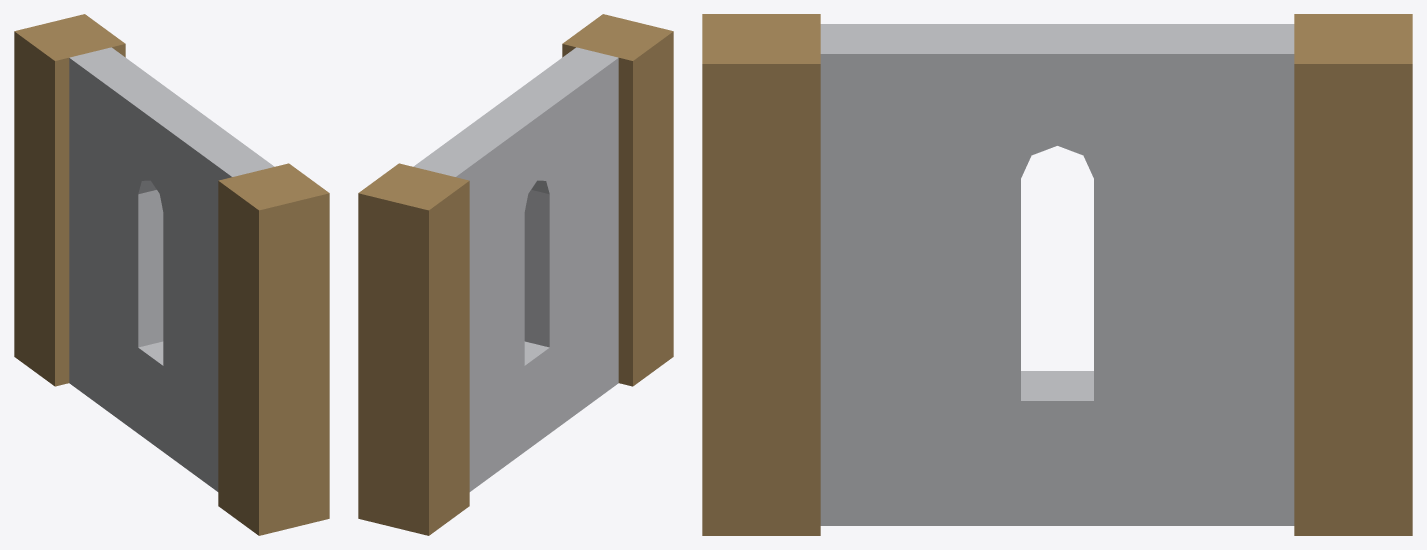
File: Wood_Window_Narrow_01.obj
The picture shows the model from 3 angles, left to right: view 1: azimuth 30°, elevation 25°; view 2: azimuth 150°, elevation 25°; view 3: azimuth 270°, elevation 25°; orthographic projection. The views are drawn at different scales.
Parts seen in each view (by area): view 1: Mesh1_Wood_Window_Narrow_Model; view 2: Mesh1_Wood_Window_Narrow_Model; view 3: Mesh1_Wood_Window_Narrow_Model.
Boxes of the visible parts, left/top/right/bottom form: Mesh1_Wood_Window_Narrow_Model: left=14, top=14, right=329, bottom=535; Mesh1_Wood_Window_Narrow_Model: left=358, top=14, right=673, bottom=535; Mesh1_Wood_Window_Narrow_Model: left=702, top=14, right=1412, bottom=535.
Bounding box in the file's own units: 0.5 × 2.2 × 3.
